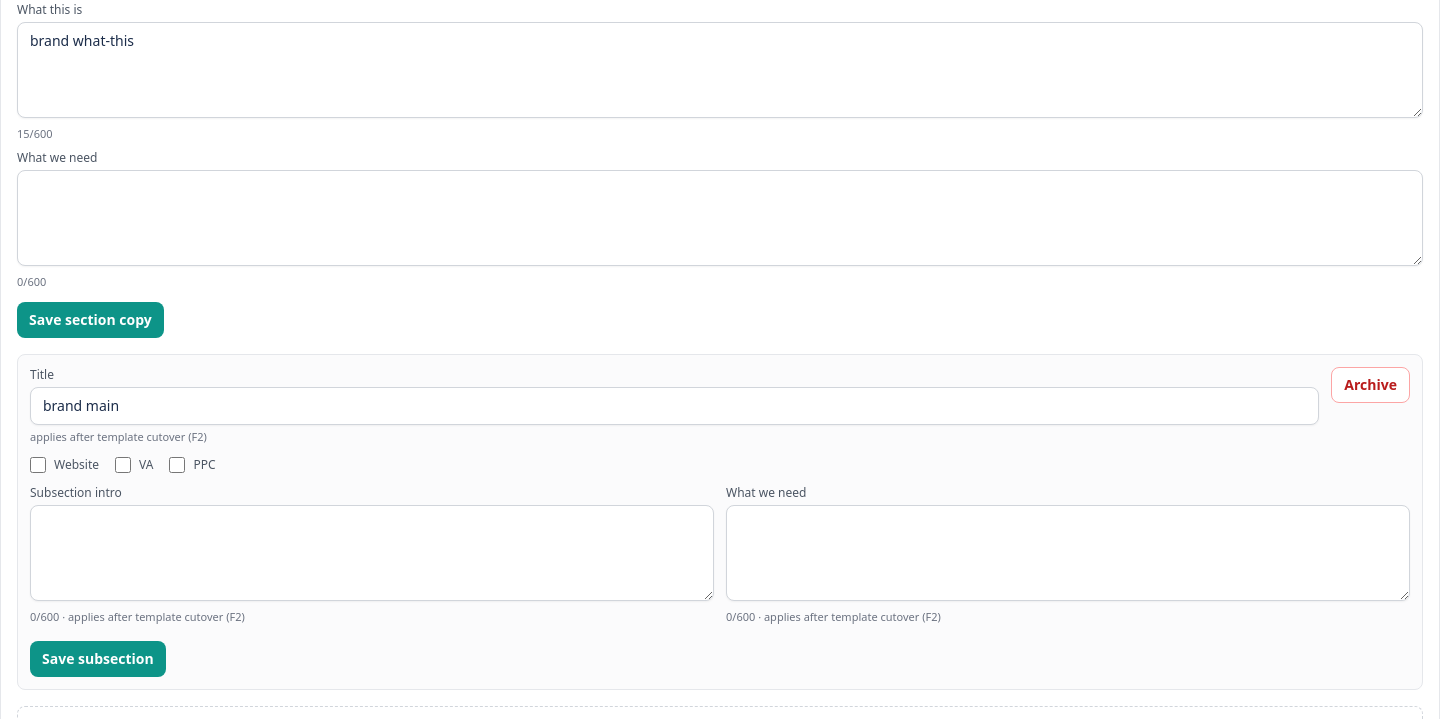
Scenario: TemplateEditor › shows a conflict message and refetches the tree on a 409 version_conflict
(page scrolled)
Click the button "Save section copy".
click(90, 320)  # box 17,302 -> 164,338
(page scrolled)
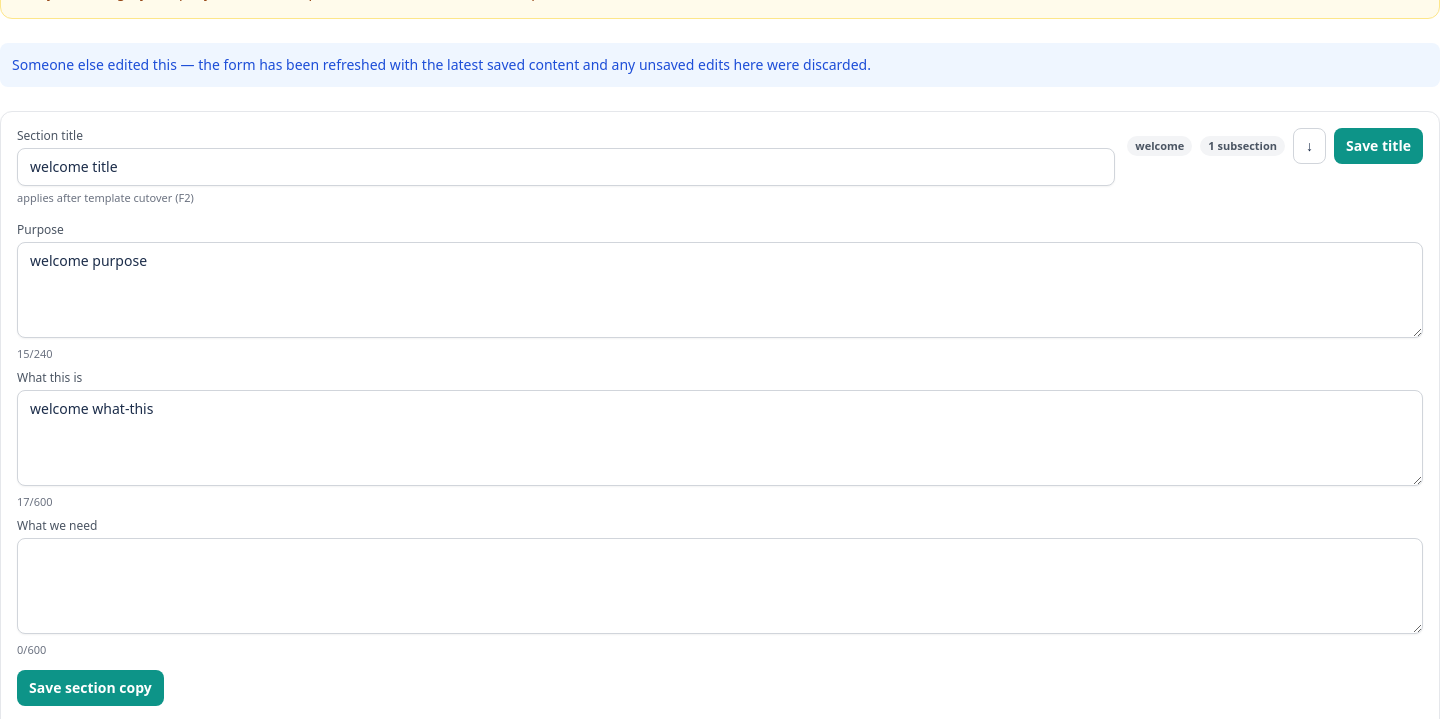
Check: the text "Someone else edited this" is shown, box 12,55 -> 871,74
